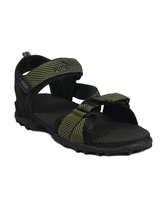shoes: (12, 48, 155, 159)
